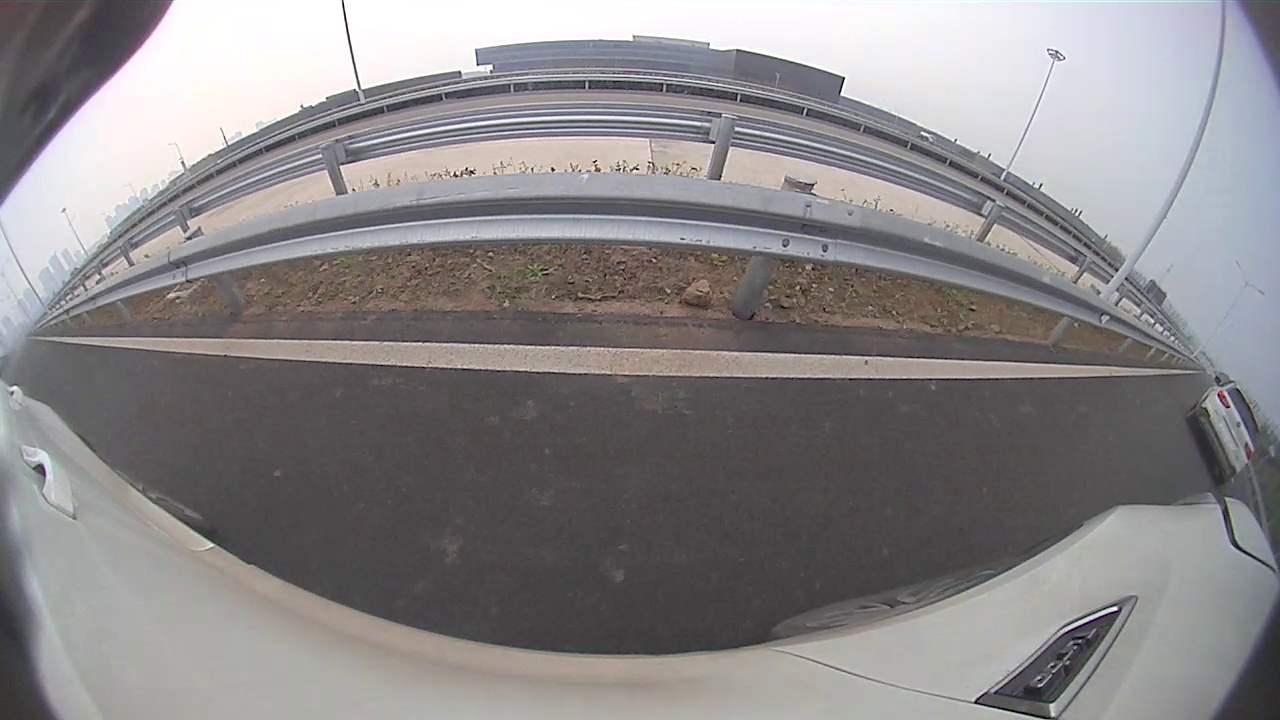car: (361, 144, 512, 245)
front: (500, 186, 512, 214)
rear: (452, 194, 470, 231)
